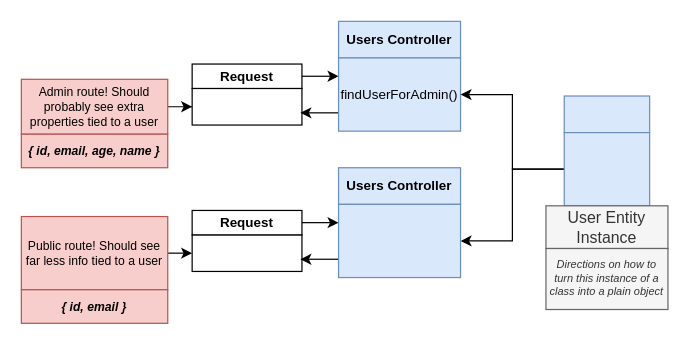
This 689x345 diagram has some shape labels left out. The box of each missing label's shape, as (x1, y1, x2, y2) in pixels:
findOne(): (563, 131, 650, 206)
findUser(): (337, 203, 461, 278)
GET / admin /auth/2: (191, 87, 302, 125)
GET /auth/2: (191, 234, 302, 271)
Users Service: (563, 95, 650, 133)
